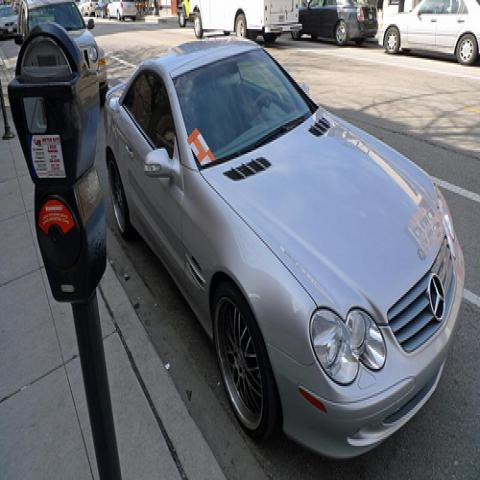car: (102, 33, 465, 463), (17, 1, 110, 97), (379, 2, 479, 63), (182, 0, 302, 47), (293, 0, 379, 40), (106, 0, 137, 22), (0, 5, 18, 38), (80, 0, 99, 17), (95, 2, 104, 18)
truck: (188, 1, 305, 40)
